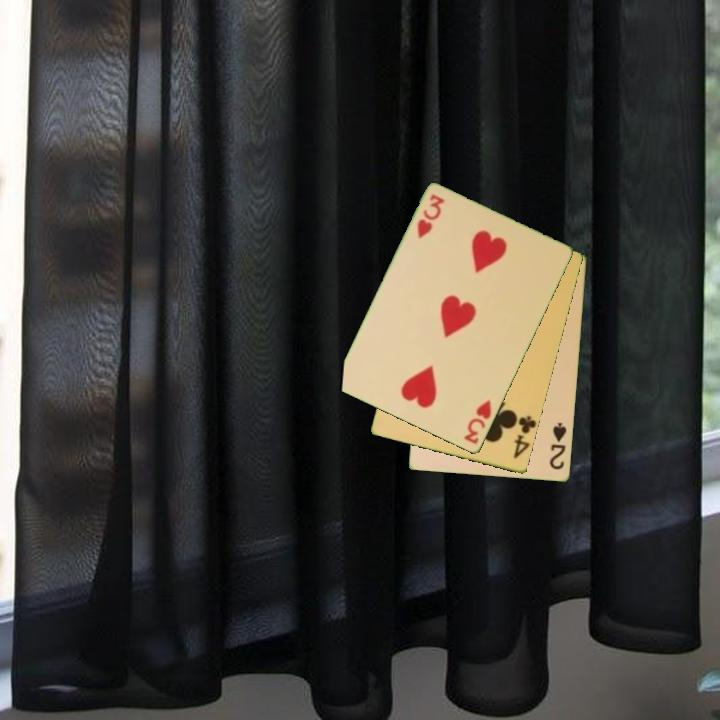2s: (546, 419, 570, 473)
3h: (460, 397, 495, 447), (414, 191, 448, 242)
4c: (510, 412, 538, 462)
